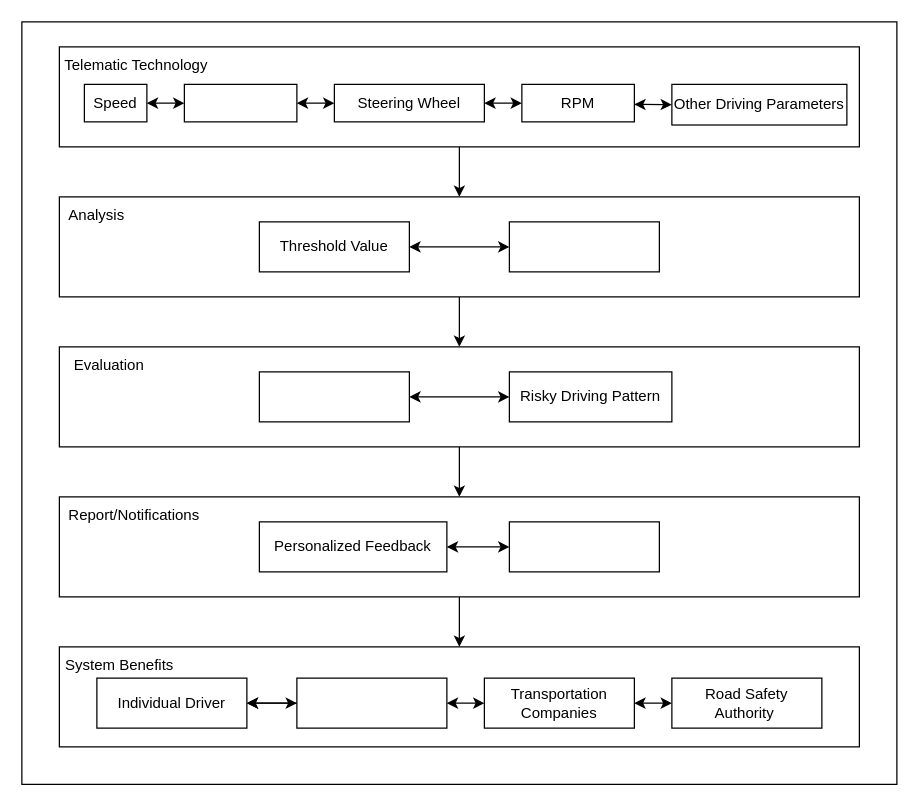
Image size: 919x806. Some labels were removed from this diagram. The centre of each missing label's shape, as x and y in pixels:
"Acceleration" goes at pixel 240 102.
"Driver Behaviour" goes at pixel 333 396.
"Emegency Alert" goes at pixel 583 546.
"Fleet Managers" goes at pixel 371 702.
"Raw Data" goes at pixel 583 246.
